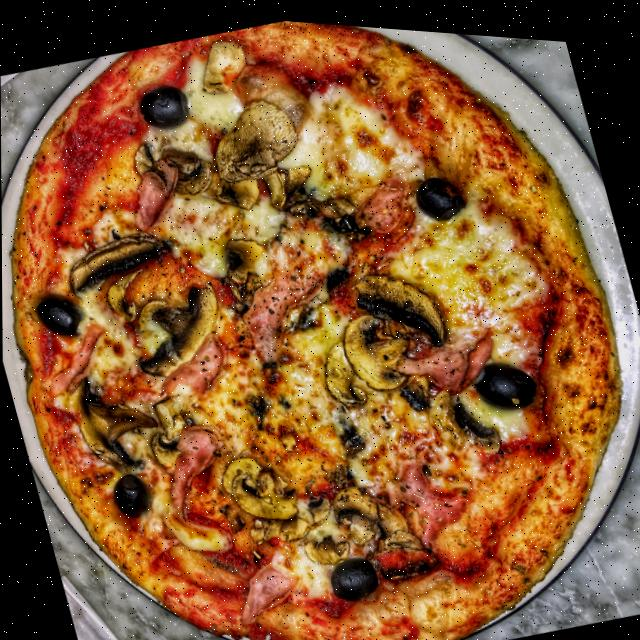black_olives: (468, 341, 542, 411), (406, 160, 471, 228), (128, 75, 196, 135), (319, 542, 383, 604), (28, 282, 87, 346), (101, 463, 153, 521)
mushrooms: (101, 245, 240, 395), (287, 461, 416, 569), (342, 248, 454, 366), (64, 357, 170, 481), (198, 81, 311, 185), (213, 437, 310, 553), (57, 220, 181, 302), (332, 295, 424, 405), (204, 224, 283, 311), (439, 371, 508, 465), (364, 511, 444, 588), (135, 384, 205, 472), (187, 25, 256, 103), (312, 326, 371, 414), (259, 151, 326, 222), (157, 132, 220, 203), (199, 159, 268, 223), (383, 359, 440, 432), (304, 179, 367, 241), (321, 397, 367, 456), (124, 136, 158, 172)
pizza: (0, 0, 640, 640)
